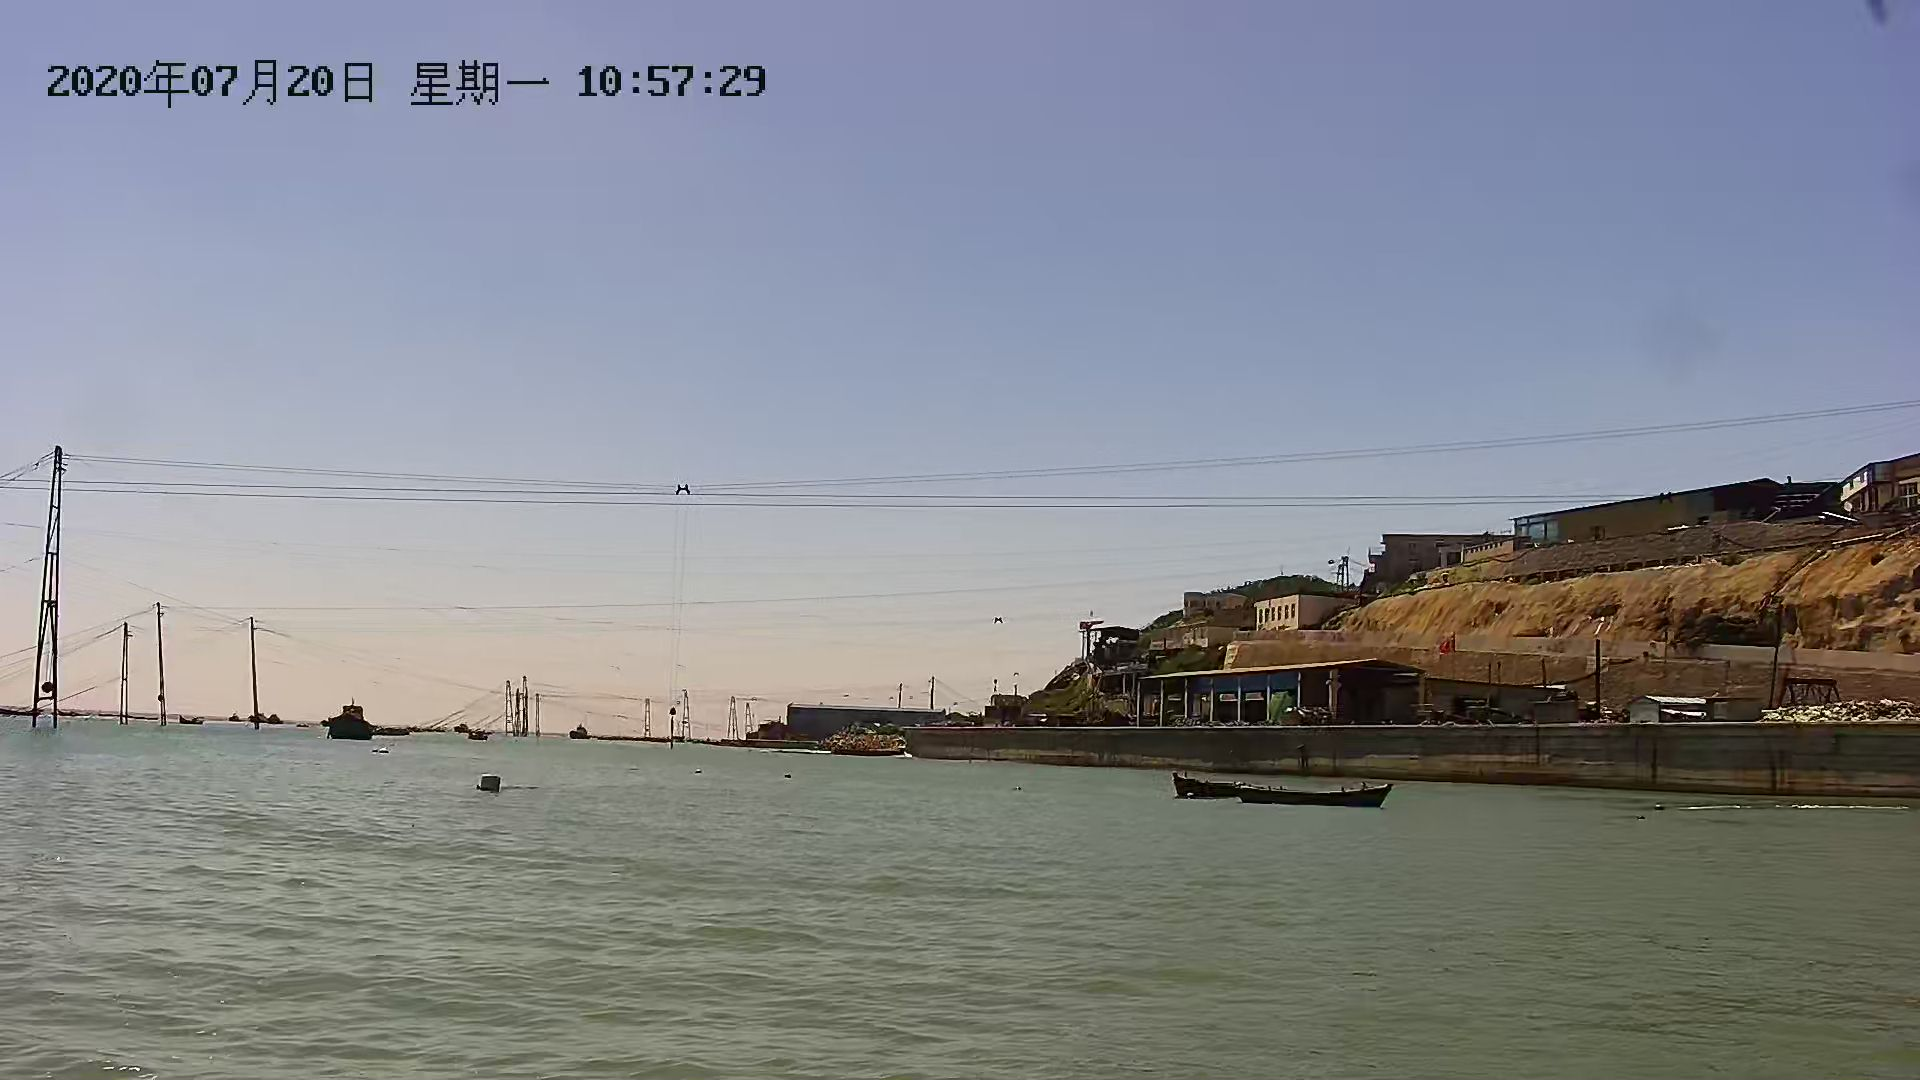boat: (1236, 782, 1395, 814), (1167, 771, 1291, 807)
mast: (36, 442, 65, 732), (243, 615, 266, 732), (156, 601, 171, 731), (117, 621, 131, 727)
rubbish: (473, 769, 506, 794)
ship: (328, 703, 377, 742)
